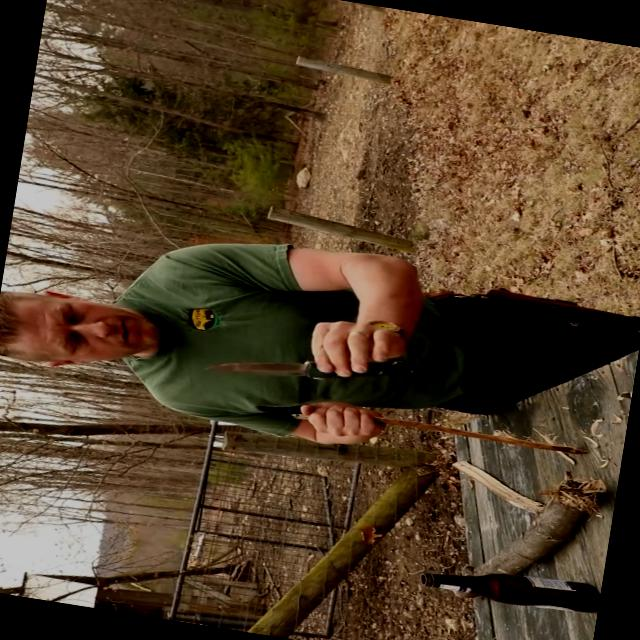knife: (184, 313, 390, 407)
